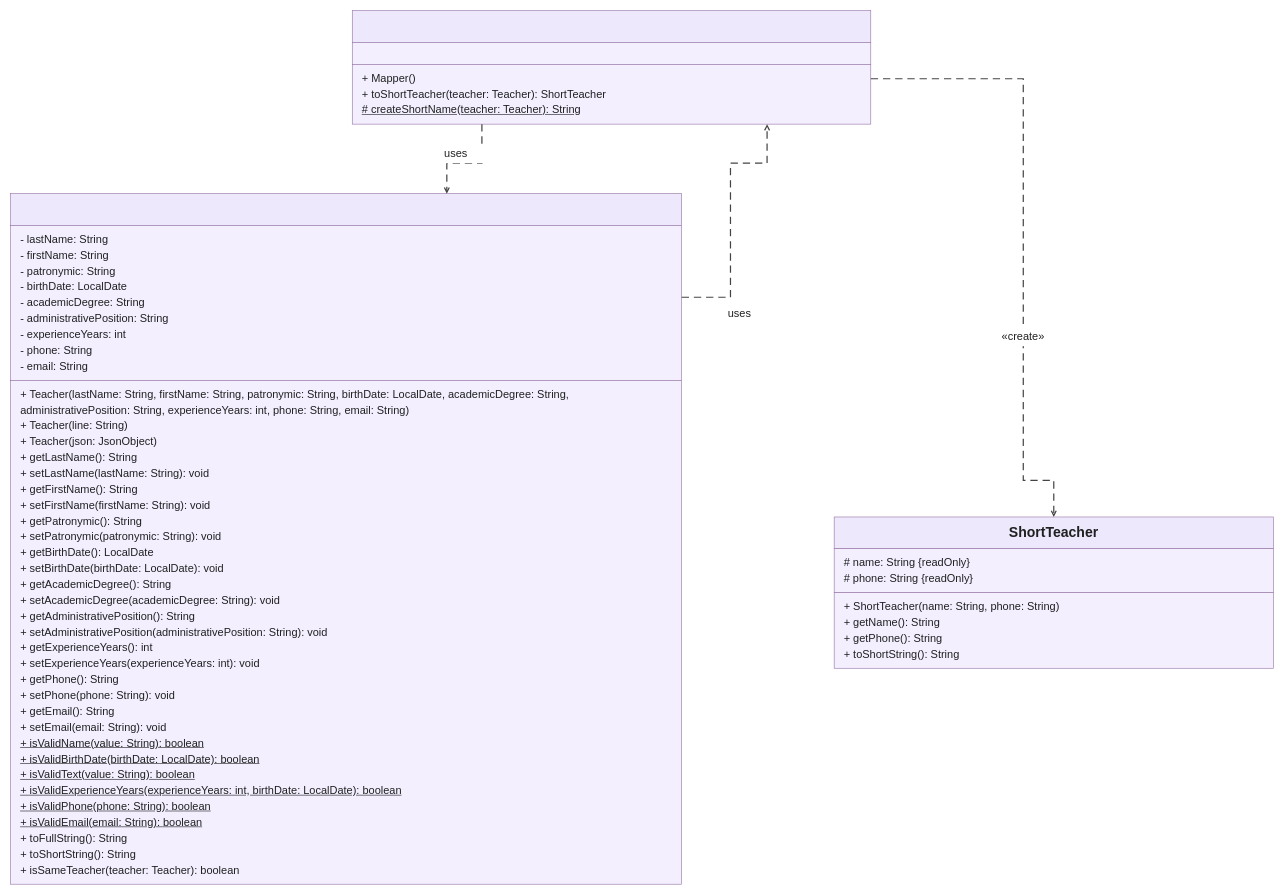
Image size: 1284x895. Some labels were removed from this diagram. Here are the shapes that lost their labels. From the top down, the centre of each, then its label:
At point (611, 26): "Mapper".
At point (346, 209): "Teacher".
